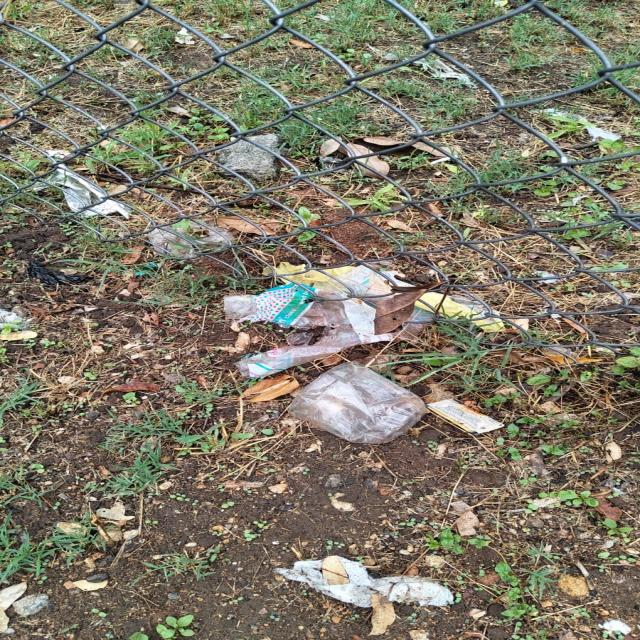metal: (52, 34, 614, 178)
plastic: (291, 363, 420, 440), (252, 280, 389, 342), (134, 211, 252, 263)
